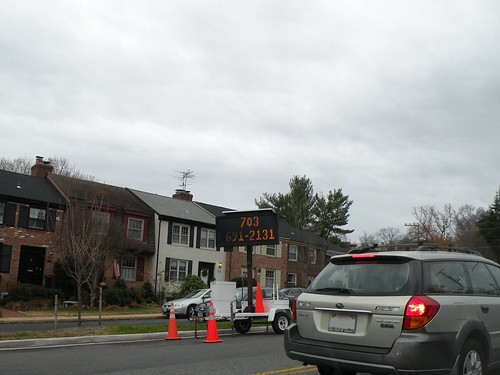building: (71, 178, 151, 304), (144, 190, 225, 289), (1, 174, 66, 297), (216, 198, 276, 281)
car: (298, 252, 500, 375), (161, 287, 211, 318)
sky: (1, 1, 484, 187)
street: (7, 325, 298, 375)
traffic cone: (159, 300, 184, 344), (202, 301, 222, 344), (251, 281, 267, 317)
tree: (261, 177, 350, 244)
